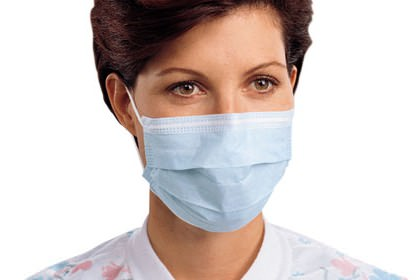mask: (148, 120, 302, 228)
